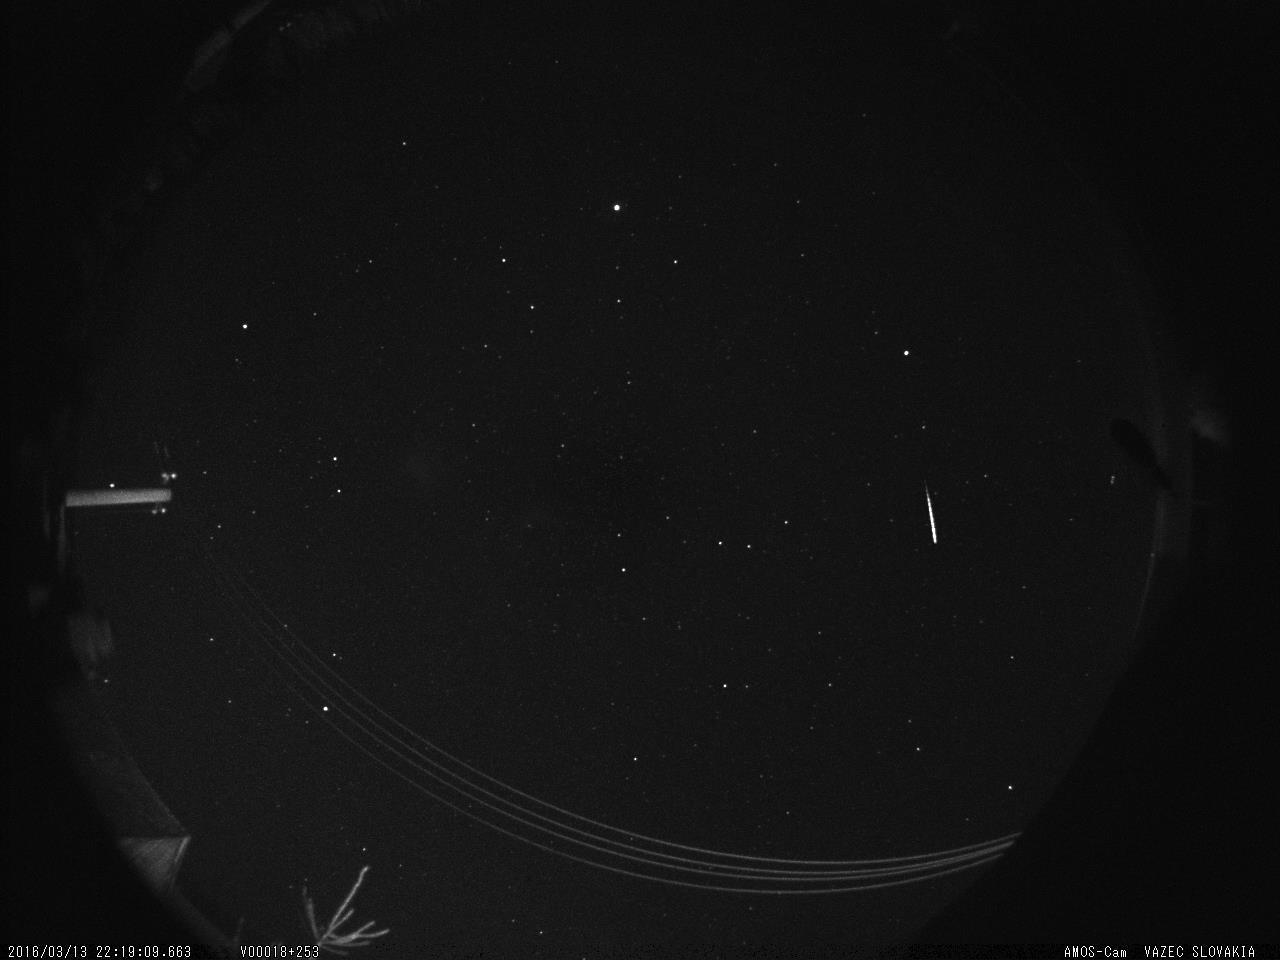Meteor: (920, 481, 939, 545)
